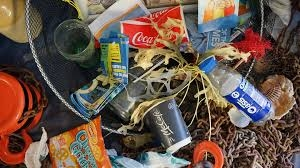metal: (197, 106, 300, 168)
paper: (66, 27, 135, 118), (141, 96, 190, 155)
plastic: (200, 56, 274, 125), (118, 3, 197, 54), (48, 116, 115, 168)
